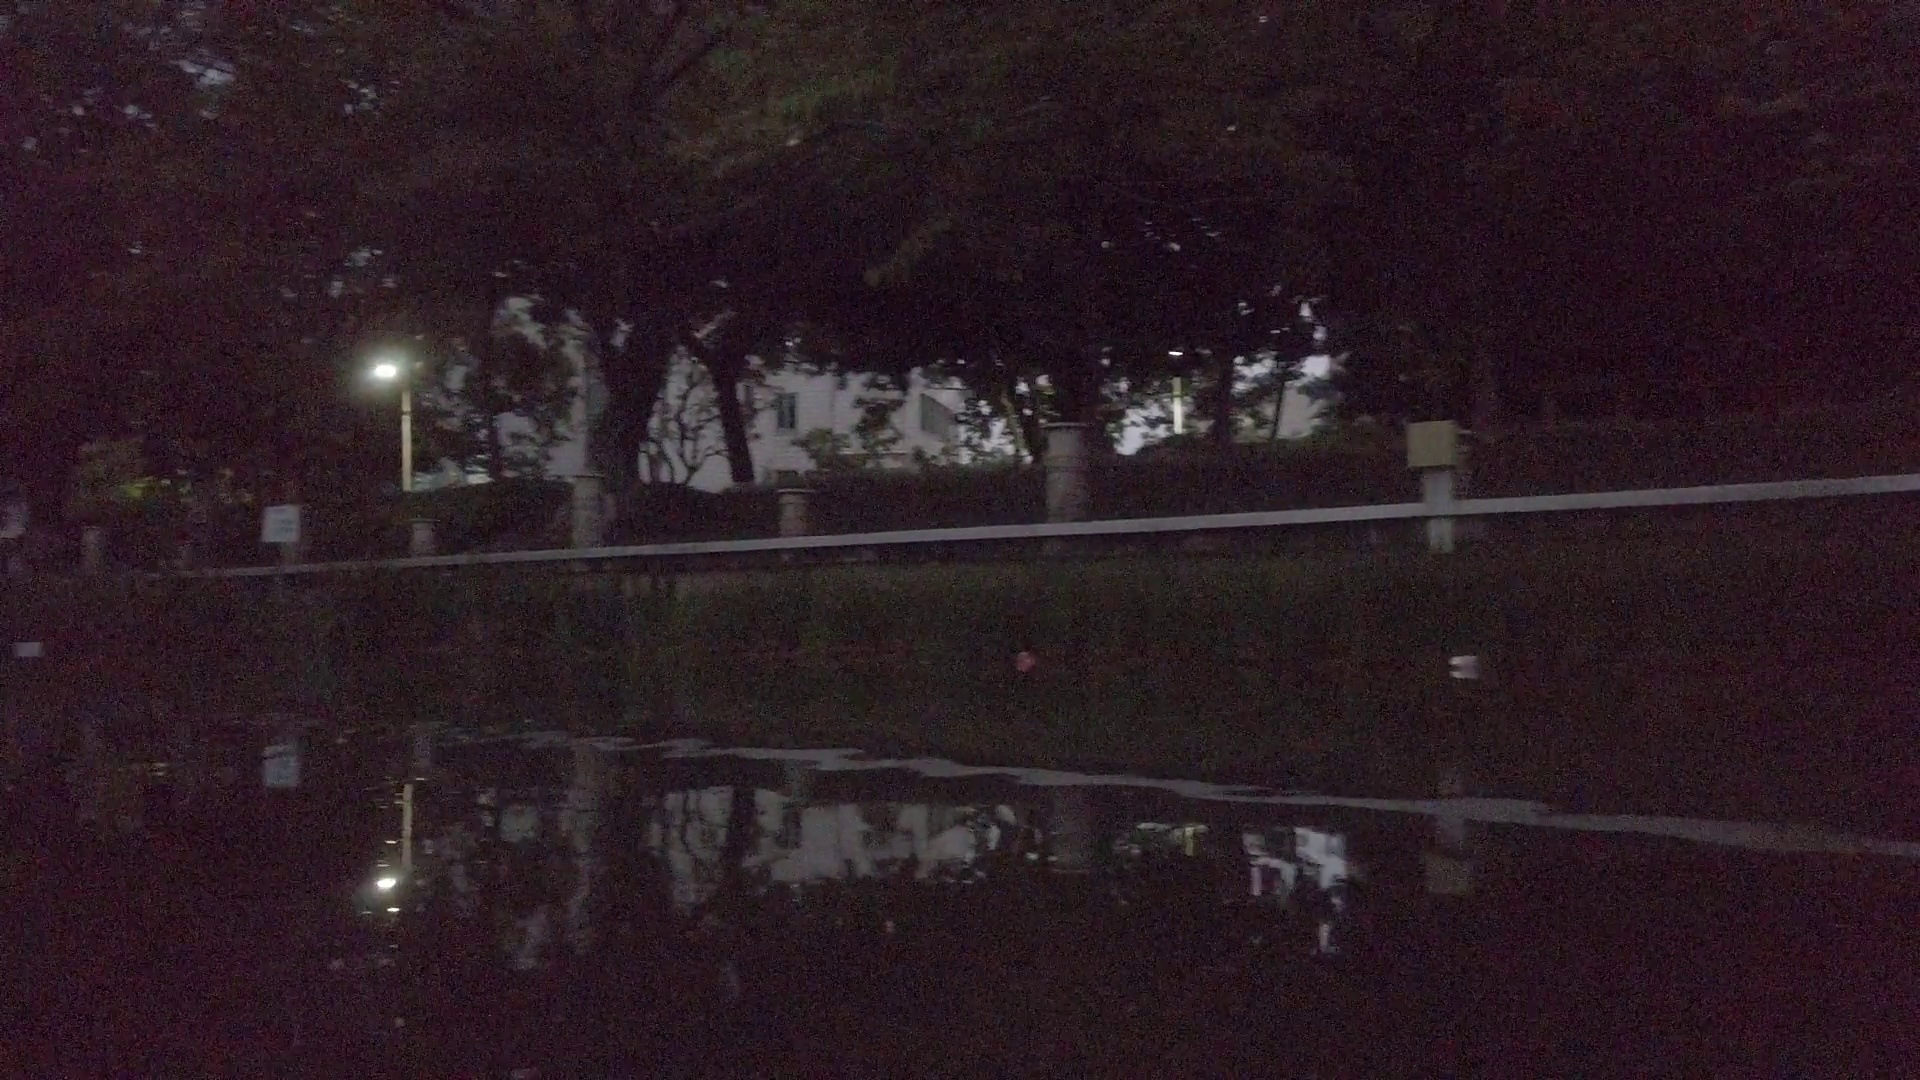bottle: (1013, 653, 1040, 675)
carton: (15, 640, 50, 665), (1447, 654, 1485, 676)
